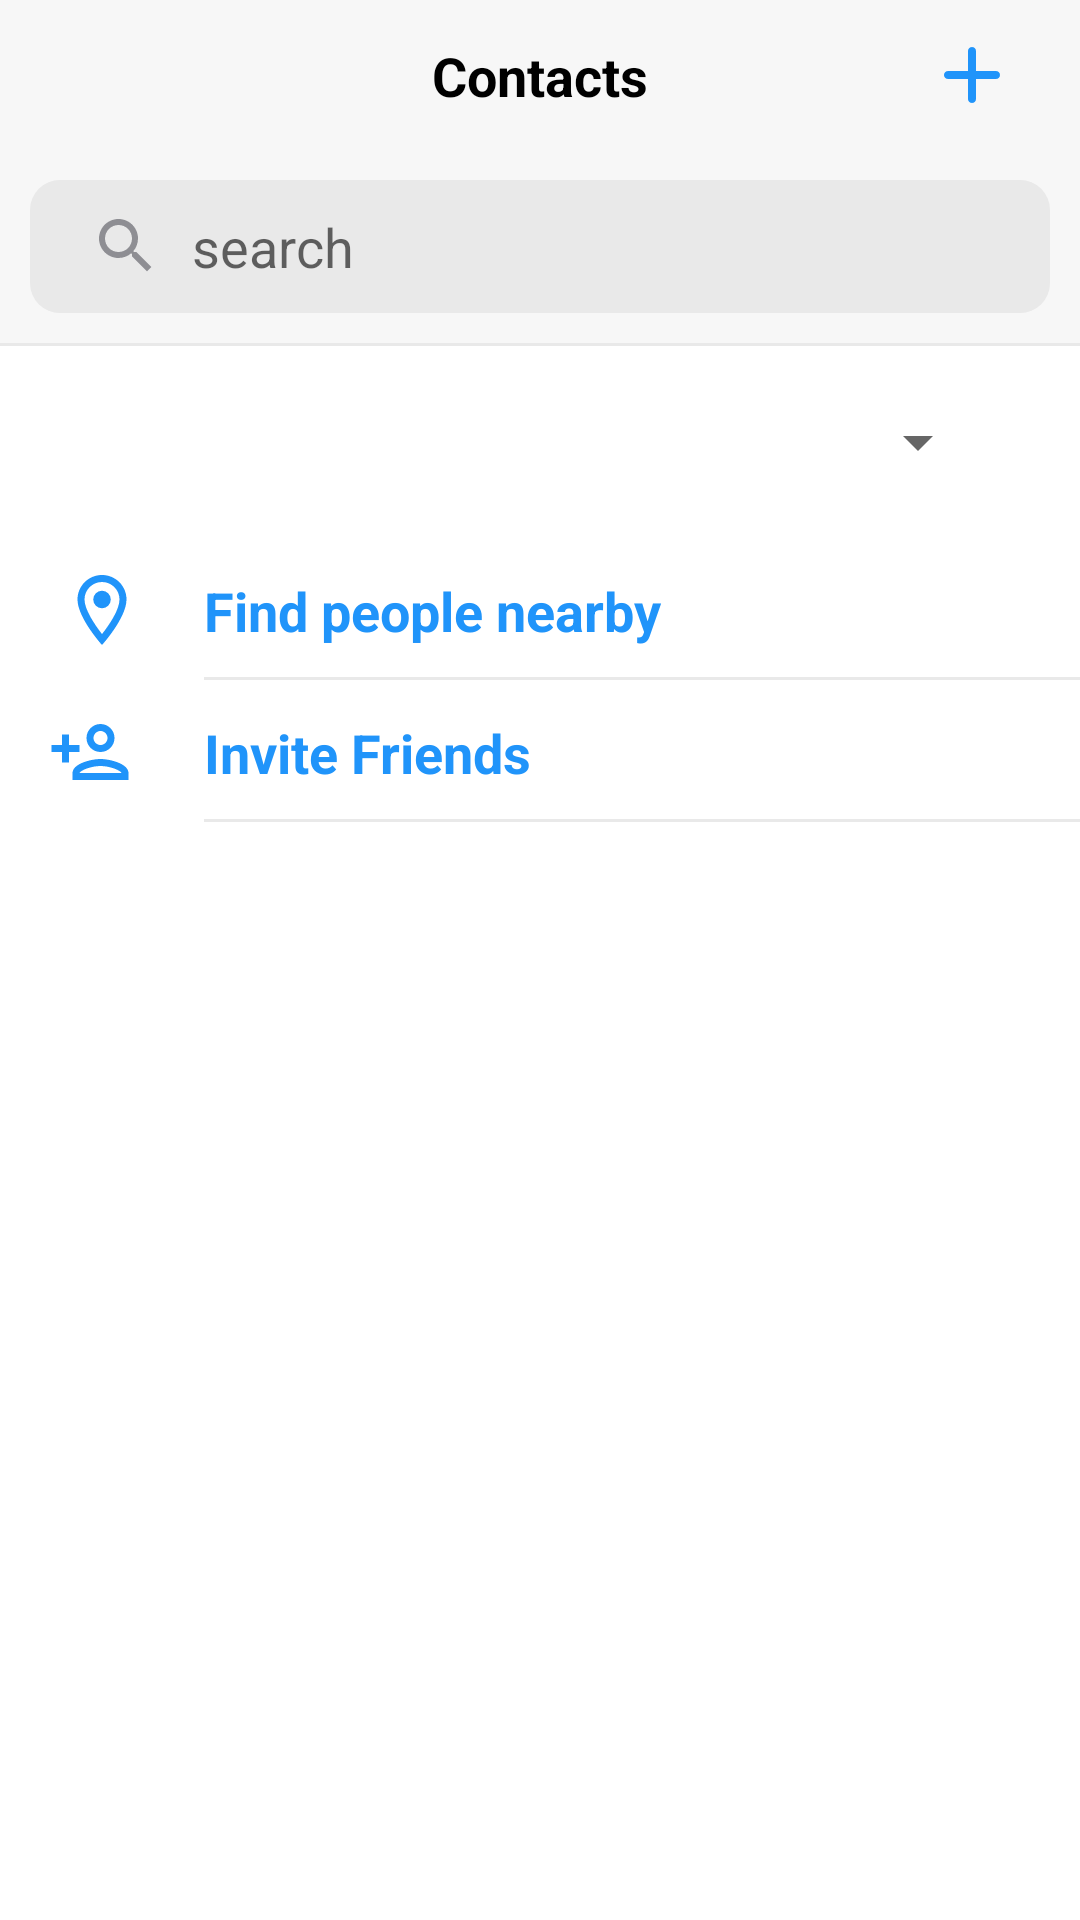

Icon click points for this 1080px x 1920px phone screenshot, format (x=x, y=y):
add: (x=972, y=75)
add person: (x=90, y=752)
location: (x=102, y=610)
